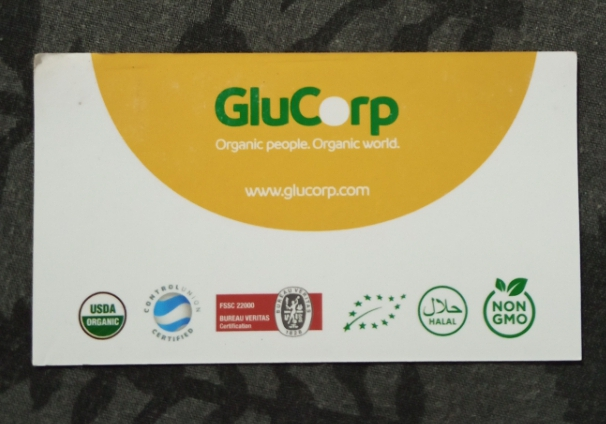alphabetical: (207, 81, 408, 220)
